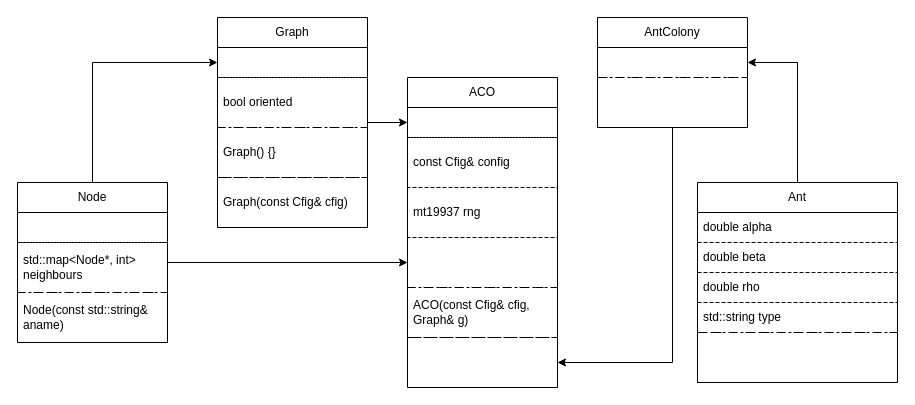
The diagram is 915 pixels wide and 405 high, and some of its shapes have lost their labels. Each missing label, with the centre of its shape:
Ant(double a, double b, double r, std::string ant_type): pixel 797 357
AntColony(const Cfig& config): pixel 672 102
Graph& graph: pixel 482 122
map<pair<Node*, Node*>, double> pher: pixel 482 262
std::set<Node*> nodes: pixel 292 62
std::string name: pixel 92 227
vector<Ant> ants: pixel 672 62
void run(): pixel 482 362
